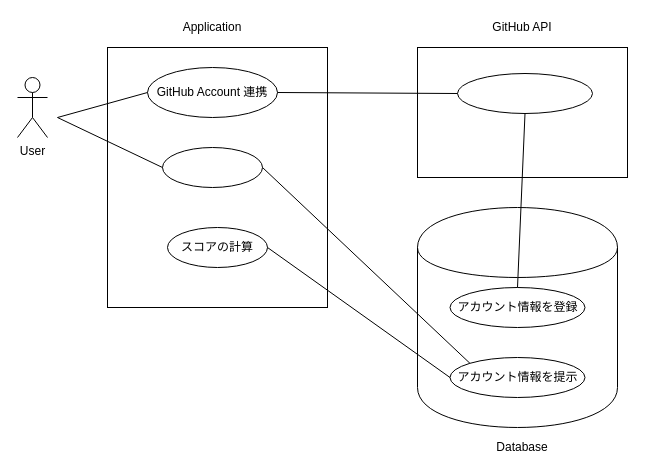
Some shapes in this 645 by 474 pixel diagram are drawn without their labels. The centre of each missing label's shape, as x and y in pixels:
アカウント情報を取得: point (524, 93)
ログイン: point (212, 167)
